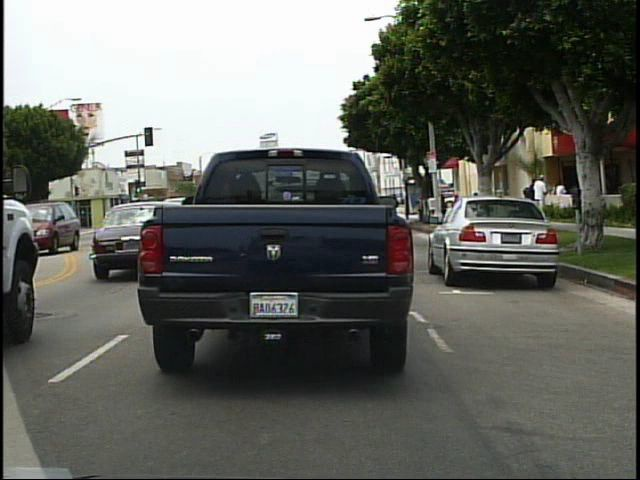person: (530, 173, 554, 224), (551, 176, 573, 223)
